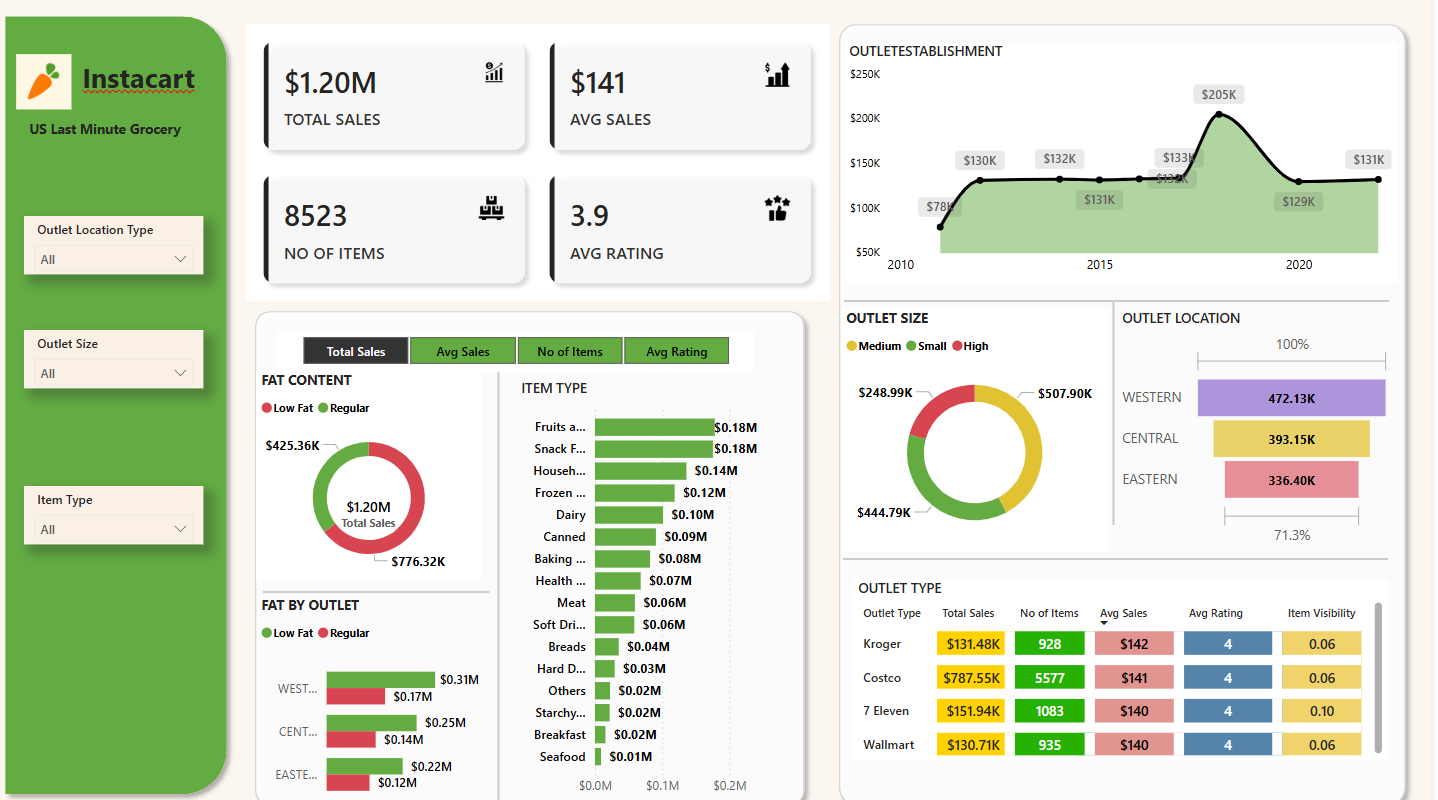

The dashboard page shown, as its layout file describes it:
{"tool":"powerbi","page":{"name":"Page 1","canvas":[1400,800],"ordinal":0},"visuals":[{"type":"shape","box":[0,11.7,234.1,777.6],"z":0},{"type":"textbox","box":[79,56.6,135.6,55.6],"z":1000},{"type":"textbox","box":[27.3,117.1,174.6,27.3],"z":2000},{"type":"cardVisual","fields":{"Data":["instacart Grocery Data.Total Sales","instacart Grocery Data.Avg Sales","instacart Grocery Data.No of Items","instacart Grocery Data.Avg Rating"]},"box":[243.9,28.3,569.8,270.2],"z":3000},{"type":"shape","box":[243.9,299.5,554.1,500.5],"z":4000},{"type":"donutChart","title":"FAT CONTENT","fields":{"Y":["instacart Grocery Data.Total Sales"],"Category":["instacart Grocery Data.Item Fat Content"]},"box":[253.7,366.8,220.5,203.9],"z":5000},{"type":"slicer","fields":{"Values":["Metrics.Metrics"]},"box":[274.1,326.8,465.4,40],"z":6000},{"type":"cardVisual","fields":{"Data":["instacart Grocery Data.Total Sales"]},"box":[293.7,463.4,139.5,86.8],"z":7000},{"type":"clusteredBarChart","title":"FAT BY OUTLET","fields":{"Y":["instacart Grocery Data.Total Sales"],"Category":["instacart Grocery Data.Outlet Location Type"],"Series":["instacart Grocery Data.Item Fat Content"]},"box":[253.7,586.3,223.4,213.7],"z":8000},{"type":"shape","box":[260.5,578.5,221.5,7.8],"z":9000},{"type":"shape","box":[482,367.8,16.6,421.5],"z":10000},{"type":"barChart","title":" ITEM TYPE","fields":{"Y":["instacart Grocery Data.Total Sales"],"Category":["instacart Grocery Data.Item Type"]},"box":[507.3,374.6,257.6,414.6],"z":11000},{"type":"shape","box":[813.7,19.5,570.7,780.5],"z":12000},{"type":"lineChart","title":"OUTLETESTABLISHMENT","fields":{"Y":["instacart Grocery Data.Total Sales"],"Category":["instacart Grocery Data.Outlet Establishment Year"]},"box":[827.3,45.9,539.5,235.1],"z":13000},{"type":"shape","box":[827.3,290.7,531.7,15.6],"z":14000},{"type":"donutChart","title":"OUTLET SIZE","fields":{"Y":["instacart Grocery Data.Total Sales"],"Category":["instacart Grocery Data.Outlet Size","instacart Grocery Data.Outlet Location Type"]},"box":[824.4,306.3,261.5,236.1],"z":15000},{"type":"shape","box":[1082.9,299.5,14.6,217.6],"z":16000},{"type":"funnel","title":"OUTLET LOCATION","fields":{"Y":["Sum(instacart Grocery Data.Sales)"],"Category":["instacart Grocery Data.Outlet Location Type"]},"box":[1093.7,306.3,272.2,236.1],"z":17000},{"type":"shape","box":[826.3,542.4,531.7,15.6],"z":18000},{"type":"pivotTable","title":"OUTLET TYPE","fields":{"Rows":["instacart Grocery Data.Outlet Type"],"Values":["instacart Grocery Data.Total Sales","instacart Grocery Data.No of Items","instacart Grocery Data.Avg Sales","instacart Grocery Data.Avg Rating","Avg(instacart Grocery Data.Item Visibility)"]},"box":[836.1,569.8,522,176.6],"z":19000},{"type":"slicer","fields":{"Values":["instacart Grocery Data.Outlet Location Type"]},"box":[27.3,215.6,174.6,56.6],"z":20000},{"type":"slicer","fields":{"Values":["instacart Grocery Data.Outlet Size"]},"box":[27.3,326.8,174.6,56.6],"z":21000},{"type":"slicer","fields":{"Values":["instacart Grocery Data.Item Type"]},"box":[27.3,479,174.6,56.6],"z":22000},{"type":"image","box":[14.6,52.7,64.4,64.4],"z":23000}]}

Visuals, with their boxes in screenshot pixels (x1, y1, x2, y2), scaled from the page's 1400x800 canvas onto the 1438x800 screenshot:
shape: box=[0, 12, 240, 789]
textbox: box=[81, 57, 220, 112]
textbox: box=[28, 117, 207, 144]
cardVisual - instacart Grocery Data.Total Sales x instacart Grocery Data.Avg Sales: box=[251, 28, 836, 298]
shape: box=[251, 300, 820, 799]
"FAT CONTENT" donutChart: box=[261, 367, 487, 571]
slicer - Metrics.Metrics: box=[282, 327, 760, 367]
cardVisual - instacart Grocery Data.Total Sales: box=[302, 463, 445, 550]
"FAT BY OUTLET" clusteredBarChart: box=[261, 586, 490, 799]
shape: box=[268, 578, 495, 586]
shape: box=[495, 368, 512, 789]
" ITEM TYPE" barChart: box=[521, 375, 786, 789]
shape: box=[836, 20, 1422, 799]
"OUTLETESTABLISHMENT" lineChart: box=[850, 46, 1404, 281]
shape: box=[850, 291, 1396, 306]
"OUTLET SIZE" donutChart: box=[847, 306, 1115, 542]
shape: box=[1112, 300, 1127, 517]
"OUTLET LOCATION" funnel: box=[1123, 306, 1403, 542]
shape: box=[849, 542, 1395, 558]
"OUTLET TYPE" pivotTable: box=[859, 570, 1395, 746]
slicer - instacart Grocery Data.Outlet Location Type: box=[28, 216, 207, 272]
slicer - instacart Grocery Data.Outlet Size: box=[28, 327, 207, 383]
slicer - instacart Grocery Data.Item Type: box=[28, 479, 207, 536]
image: box=[15, 53, 81, 117]
